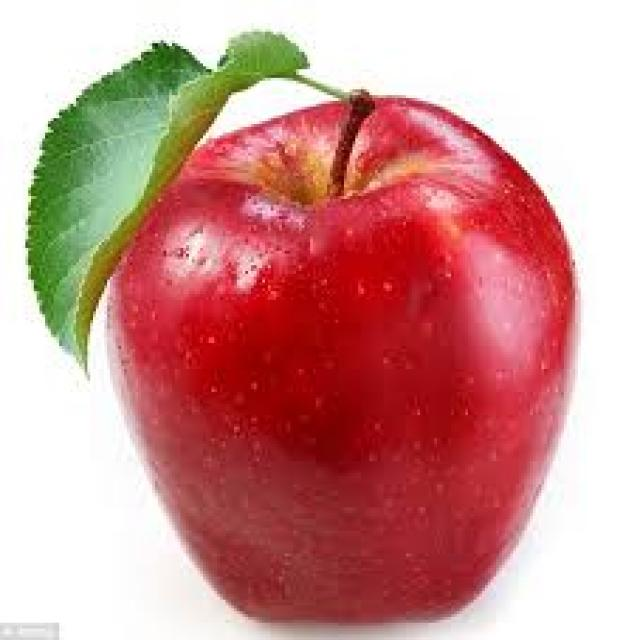organic waste: (104, 95, 578, 623), (23, 26, 304, 378)
